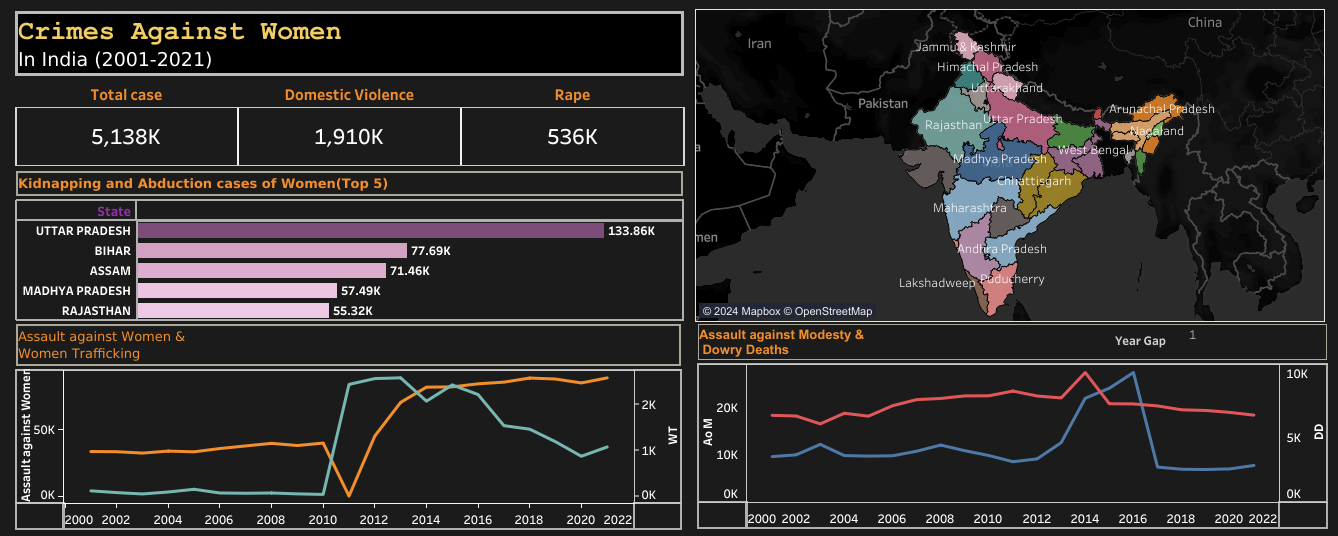

What the dashboard file says about the page in this screenshot:
{"tool":"tableau","page":{"name":"Dashboard 1","canvas":[1000,1000],"units":"permille","ordinal":0},"visuals":[{"type":"worksheet","title":"Sheet 1","mark":"Multipolygon","box":[518.8,16.9,471.1,582.8]},{"type":"worksheet","title":"Sheet 2","mark":"Automatic","box":[10.2,20.3,501.5,288.9]},{"type":"worksheet","title":"Sheet 4","mark":"Automatic","rows":["State"],"cols":["K&A"],"box":[11.2,319.3,499.5,278.7]},{"type":"worksheet","title":"Sheet 5","mark":"Line","rows":["AoW","WT"],"cols":["Year (bin)"],"box":[11.2,603,498.5,383.4]},{"type":"worksheet","title":"Sheet 3","mark":"Line","rows":["AoM","DD"],"cols":["Year (bin)"],"box":[520.8,603,471.1,381.8]},{"type":"parameter","param":"[Parameters].[Parameter 1]","box":[832.5,604.7,152.3,54.1]}]}

Visuals, with their boxes on the dashboard's canvas, which has no fixed pixel size, in thousandths of its width and height (x1, y1, x2, y2). These are canvas units, not pixel positions in the 1338x536 screenshot, which may show the page scaled, cropped or inside an application window:
"Sheet 1" worksheet (Multipolygon marks): [519, 17, 990, 600]
"Sheet 2" worksheet: [10, 20, 512, 309]
"Sheet 4" worksheet: [11, 319, 511, 598]
"Sheet 5" worksheet (Line marks): [11, 603, 510, 986]
"Sheet 3" worksheet (Line marks): [521, 603, 992, 985]
parameter: [832, 605, 985, 659]
